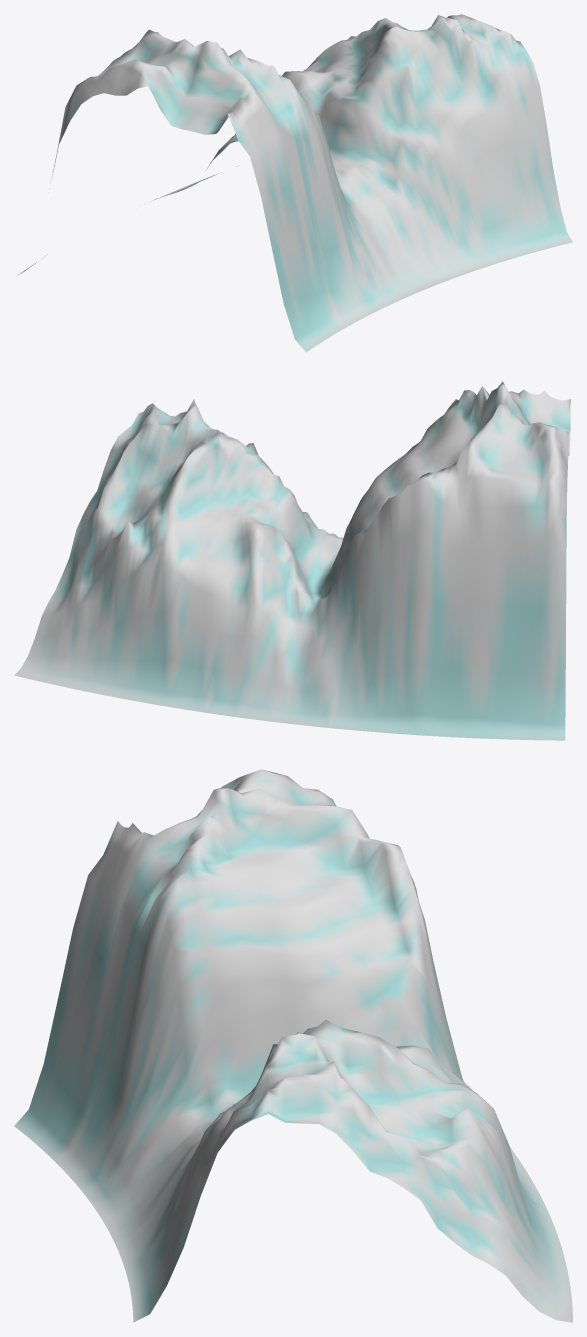
File: far_3.glb
3 renders of one model, top to bottom at view 1: azimuth 30°, elevation 25°; view 2: azimuth 150°, elevation 25°; view 3: azimuth 270°, elevation 25°, orthographic. The views are drawn at different scales.
Visible parts, largest first — view 1: Mountain; view 2: Mountain; view 3: Mountain.
Boxes of the visible parts, box(x1,y1,x2,y2) form: Mountain: box(17, 14, 572, 352); Mountain: box(14, 381, 570, 740); Mountain: box(14, 769, 572, 1322).
Bounding box in the file's own units: 1539 × 827 × 1271.
